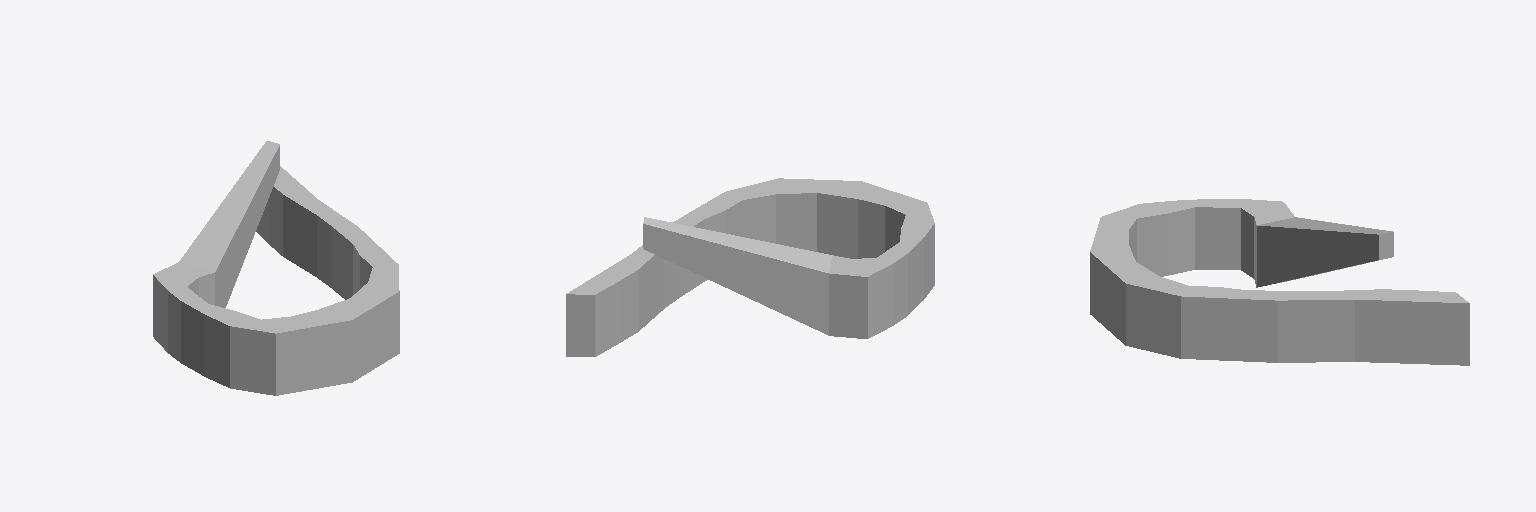
Rendered from Wire.obj.
The picture shows the model from 3 angles: view 1: azimuth 30°, elevation 25°; view 2: azimuth 150°, elevation 25°; view 3: azimuth 270°, elevation 25°; orthographic projection.
Parts seen in each view (by area): view 1: Wire; view 2: Wire; view 3: Wire.
Part boxes in pixels (x1,y1,x2,y2): Wire: (153, 141, 399, 395); Wire: (566, 178, 934, 356); Wire: (1090, 199, 1469, 365).
Size of the model in its own units: 0.4628 by 0.2363 by 0.7086.